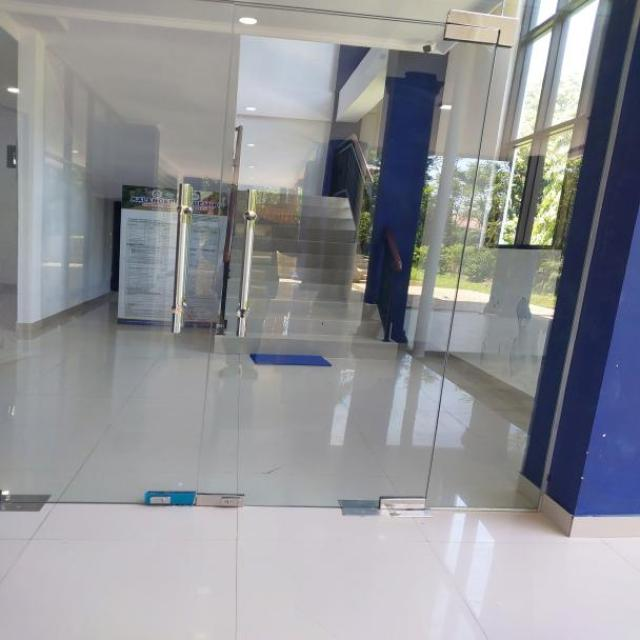Door ahead at: (216, 0, 497, 508)
